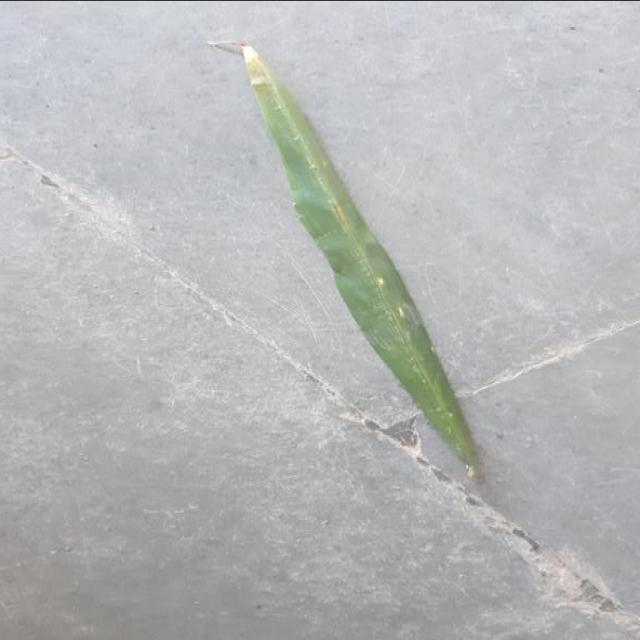leaf: (206, 38, 481, 479)
